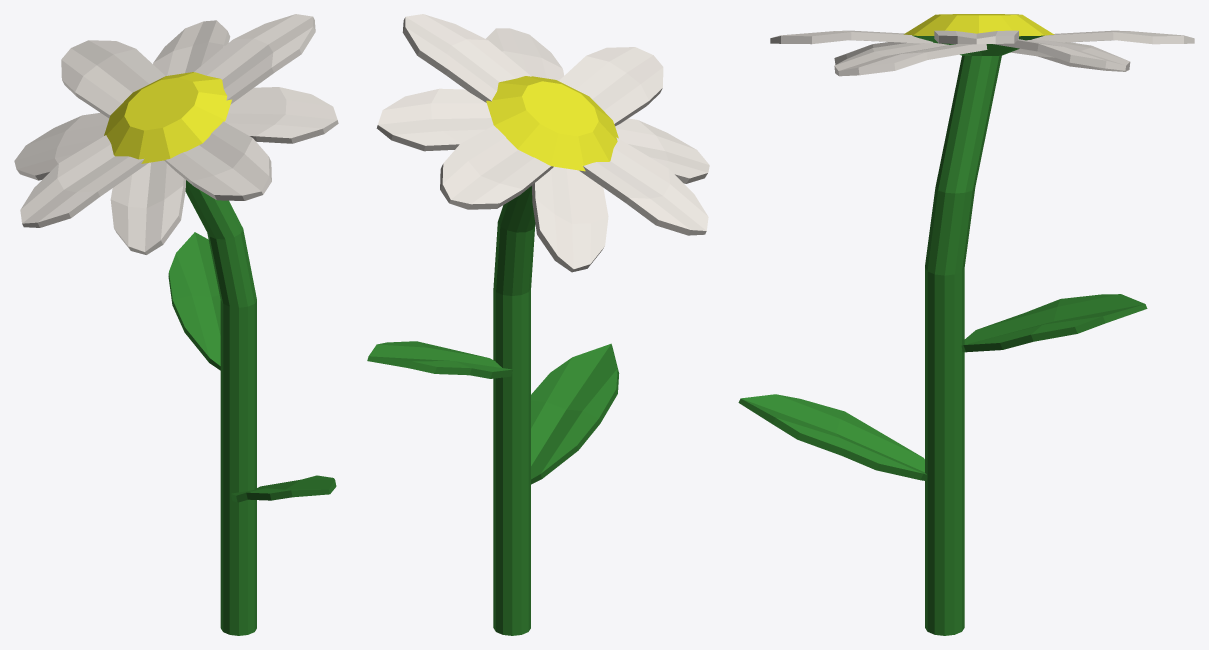
Rendered from Flower1.2.fbx.
3 renders of one model, left to right at view 1: azimuth 30°, elevation 25°; view 2: azimuth 150°, elevation 25°; view 3: azimuth 270°, elevation 25°, orthographic. The views are drawn at different scales.
Parts seen in each view (by area): view 1: Flower1.2; view 2: Flower1.2; view 3: Flower1.2.
Boxes of the visible parts, bbox=[...] form: Flower1.2: bbox=[14, 14, 338, 635]; Flower1.2: bbox=[367, 14, 709, 635]; Flower1.2: bbox=[738, 14, 1194, 635].
Size of the model in its own units: 13.4 by 25.35 by 16.47.
